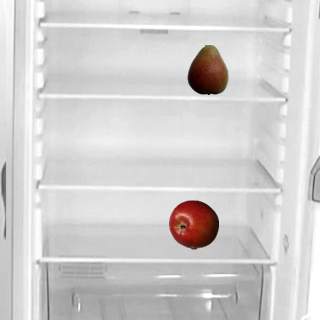Apple Braeburn: (168, 199, 218, 249)
Pear Forelle: (182, 44, 232, 94)
